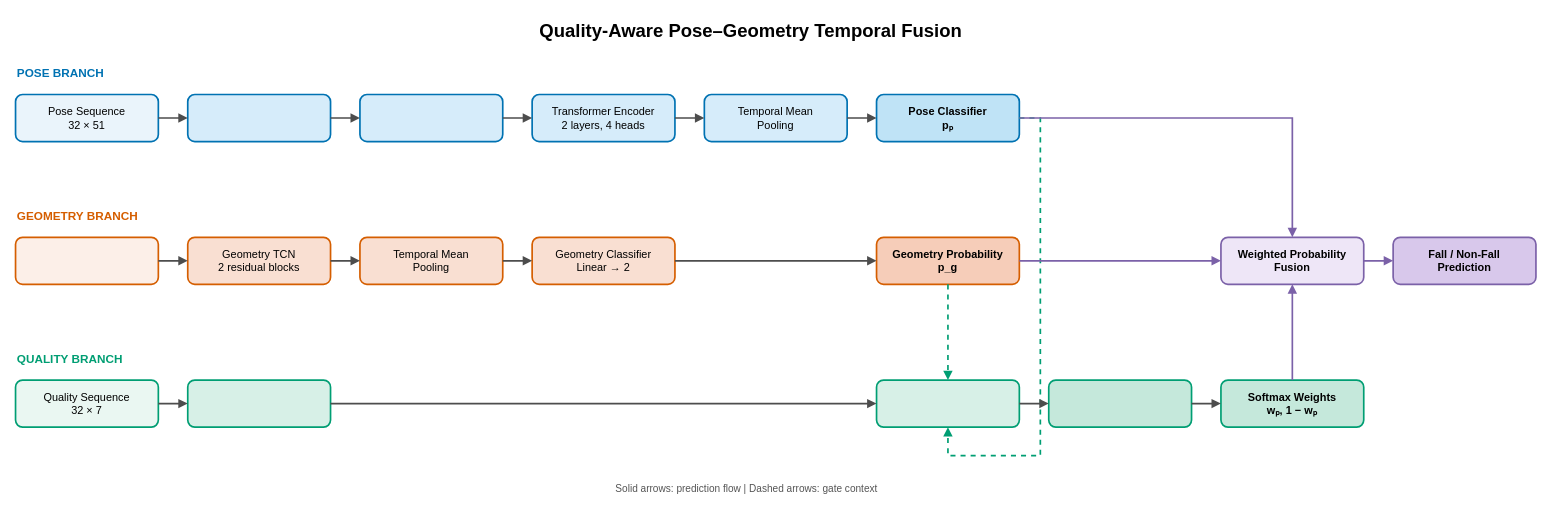
Image size: 1551x516. Some labels were removed from this diagram. The box of each missing label's shape, as (x1, y1, x2, y2) in pixels:
Concatenate [q̄, pₚ, p_g]: (875, 379, 1020, 428)
Geometry Sequence 32 × 12: (14, 236, 159, 285)
Quality Gate MLP 11 → 32 → 2: (1047, 379, 1192, 428)
Residual TCN 3 blocks, d=1/2/4: (186, 93, 331, 142)
Sinusoidal Position Encoding: (359, 93, 503, 142)
Temporal Mean q̄: (186, 379, 331, 428)
